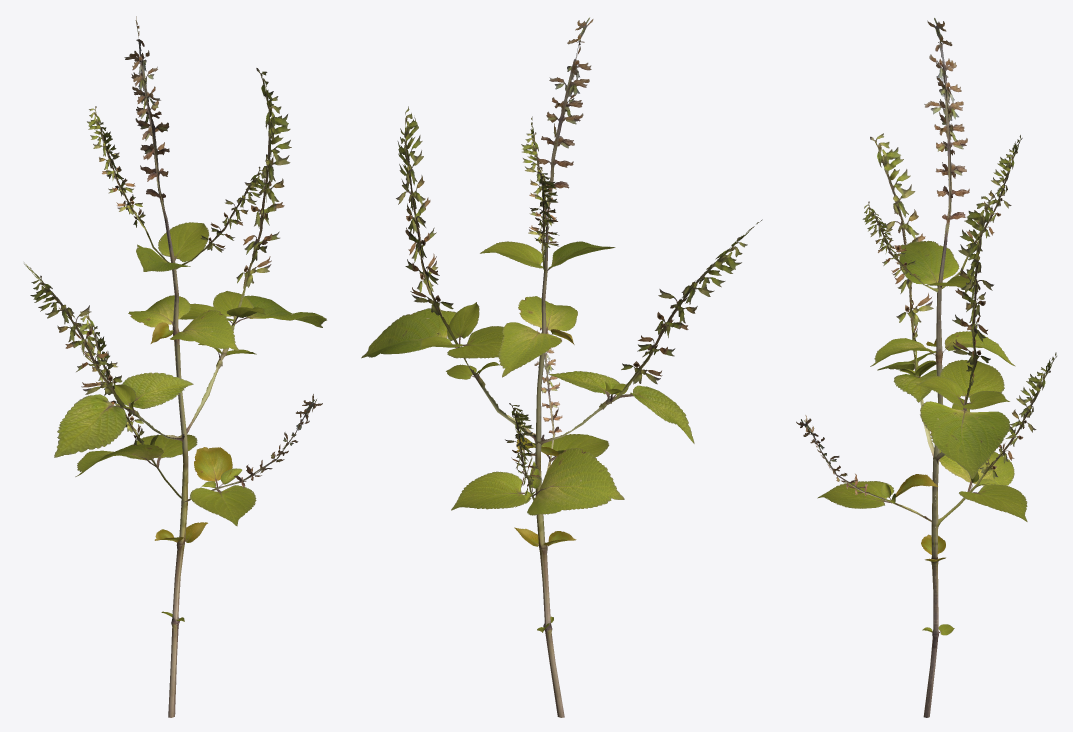
File: shrub_03_02.glb
3 renders of one model, left to right at view 1: azimuth 30°, elevation 25°; view 2: azimuth 150°, elevation 25°; view 3: azimuth 270°, elevation 25°, orthographic. The views are drawn at different scales.
Visible parts, largest first — view 1: shrub_03; view 2: shrub_03; view 3: shrub_03.
Boxes of the visible parts, x1,y1,x2,y2 form: shrub_03: (24, 16, 326, 717); shrub_03: (361, 17, 762, 717); shrub_03: (796, 18, 1056, 717).
Bounding box in the file's own units: 0.1843 × 0.3525 × 0.1226.
Materials: 1 (1 with a texture image).
